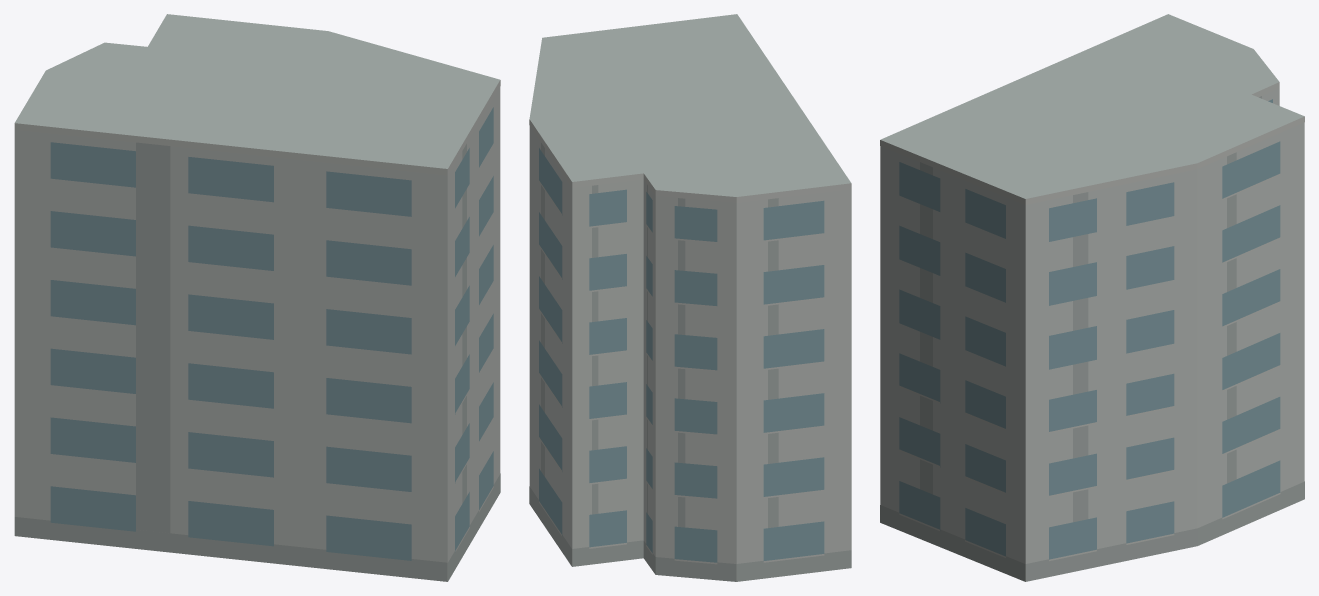
The model's file is survey-upis-32839375.glb.
3 renders of one model, left to right at view 1: azimuth 30°, elevation 25°; view 2: azimuth 150°, elevation 25°; view 3: azimuth 270°, elevation 25°, orthographic. The views are drawn at different scales.
Parts seen in each view (by area): view 1: survey-upis-32839375.tmp; view 2: survey-upis-32839375.tmp; view 3: survey-upis-32839375.tmp.
Part boxes in pixels (<box>): survey-upis-32839375.tmp: <box>14,14,500,581</box>; survey-upis-32839375.tmp: <box>529,14,851,581</box>; survey-upis-32839375.tmp: <box>880,14,1304,581</box>.
Size of the model in its own units: 16.02 by 15.45 by 15.54.
